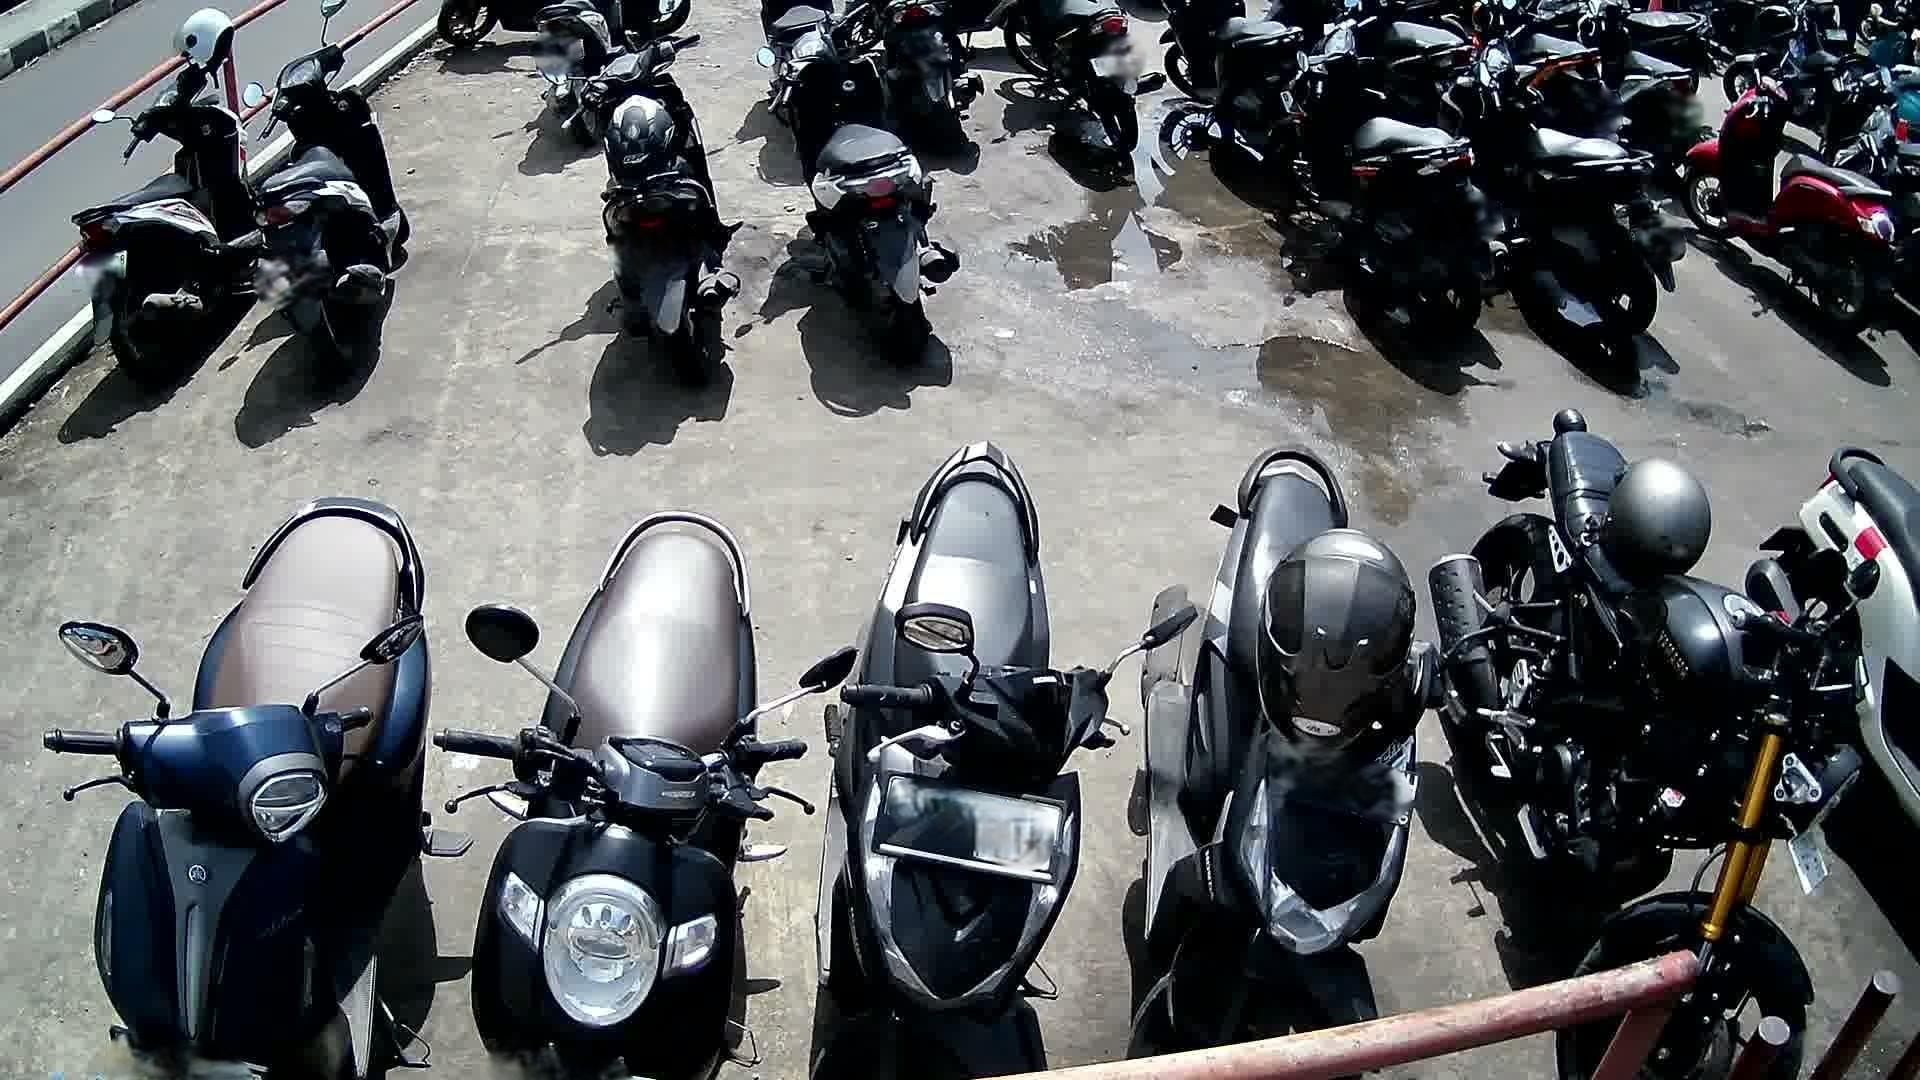motorcycle: (1433, 410, 1844, 1080), (42, 492, 471, 1080), (439, 512, 822, 1080), (824, 440, 1138, 1080), (1129, 448, 1469, 1026), (1745, 442, 1920, 882), (1445, 26, 1685, 348), (1288, 17, 1511, 345), (756, 8, 959, 345), (562, 32, 748, 378), (74, 67, 264, 386), (1684, 61, 1896, 340), (252, 37, 413, 381)
